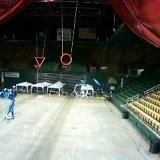Orange_Circle_GShape: (61, 52, 72, 65)
Orange_Triangle_Gshape: (34, 56, 45, 69)
